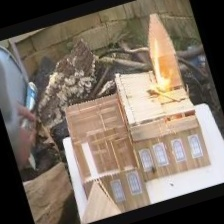fire: (141, 40, 187, 96)
